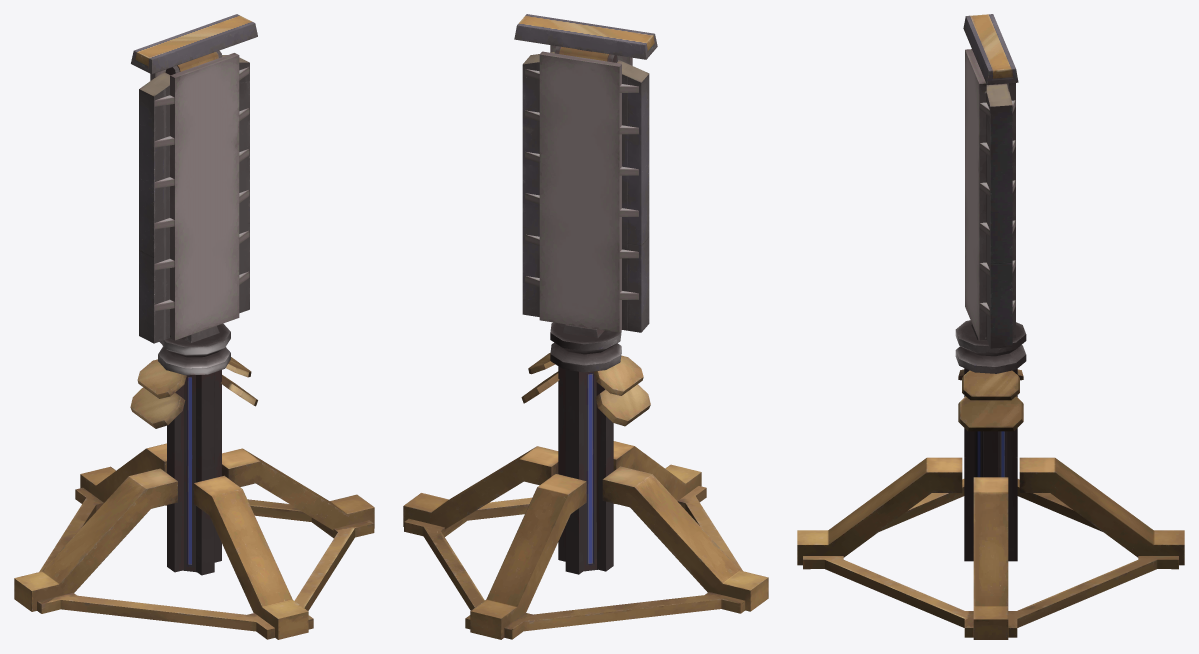
Rendered from S_survive_radar.fbx.
3 renders of one model, left to right at view 1: azimuth 30°, elevation 25°; view 2: azimuth 150°, elevation 25°; view 3: azimuth 270°, elevation 25°, orthographic. The views are drawn at different scales.
Visible parts, largest first — view 1: S_survive_radar; view 2: S_survive_radar; view 3: S_survive_radar.
Boxes of the visible parts, x1=… form: S_survive_radar: x1=14, y1=14, x2=374, y2=639; S_survive_radar: x1=403, y1=14, x2=768, y2=639; S_survive_radar: x1=797, y1=14, x2=1184, y2=639.
Bounding box in the file's own units: 1 × 1.47 × 1.
Materials: 1 (1 with a texture image).
